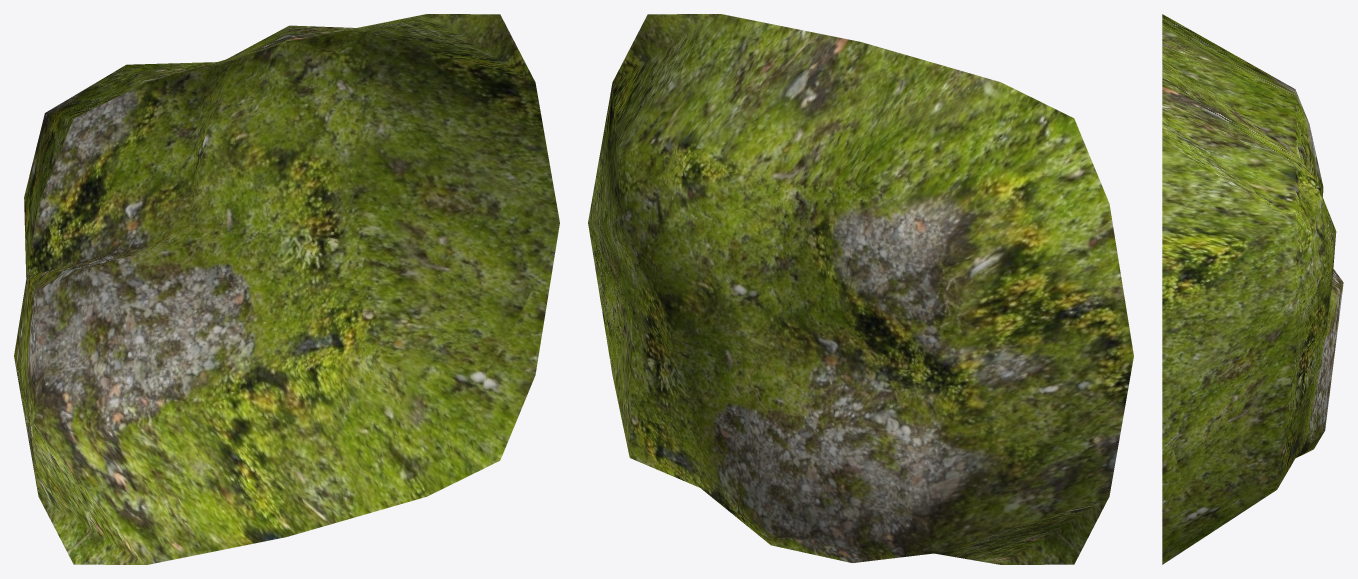
File: forest ground stones mossy 1.fbx
3 renders of one model, left to right at view 1: azimuth 30°, elevation 25°; view 2: azimuth 150°, elevation 25°; view 3: azimuth 270°, elevation 25°, orthographic. The views are drawn at different scales.
Parts seen in each view (by area): view 1: Plane; view 2: Plane; view 3: Plane.
Boxes of the visible parts, <box> form: Plane: <box>14,14,559,564</box>; Plane: <box>588,14,1133,564</box>; Plane: <box>1162,14,1343,564</box>.
Bounding box in the file's own units: 1.14 × 0.9865 × 0.3891.
